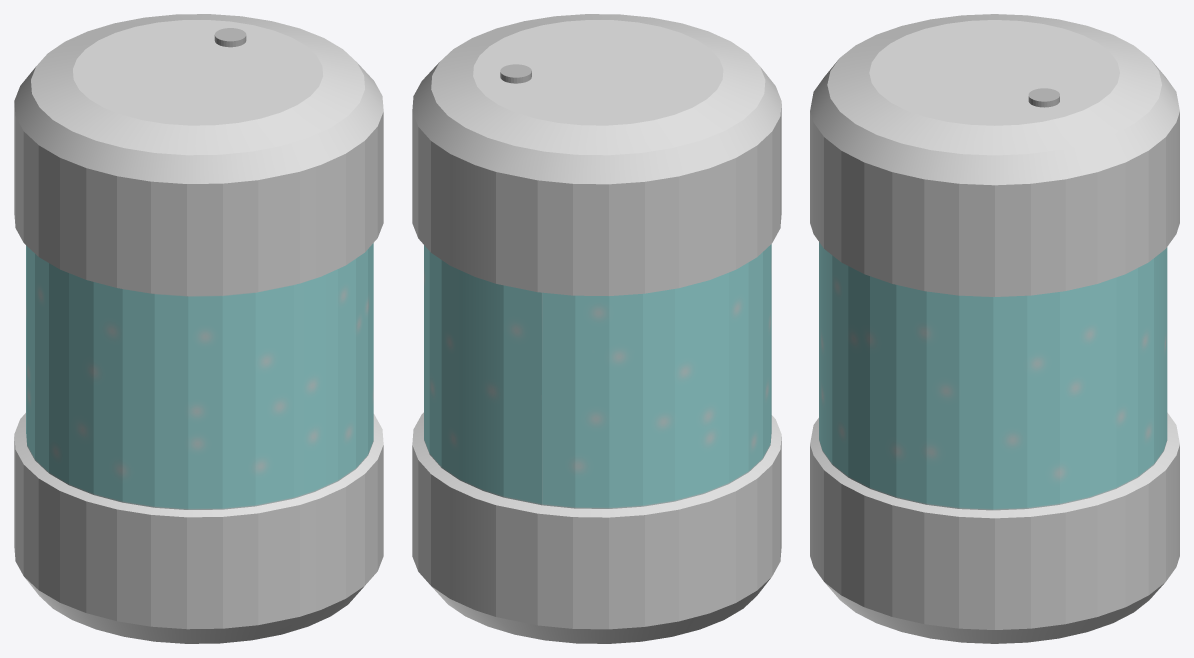
Rendered from Fluid_Tank.fbx.
3 views of the same model, side by side, from view 1: azimuth 30°, elevation 25°; view 2: azimuth 150°, elevation 25°; view 3: azimuth 270°, elevation 25° (orthographic).
Parts seen in each view (by area): view 1: Fluid_Tank; view 2: Fluid_Tank; view 3: Fluid_Tank.
Boxes of the visible parts, x1,y1,x2,y2 form: Fluid_Tank: (14,14,383,643); Fluid_Tank: (412,14,781,643); Fluid_Tank: (810,14,1179,643).
Size of the model in its own units: 100 by 155 by 100.
